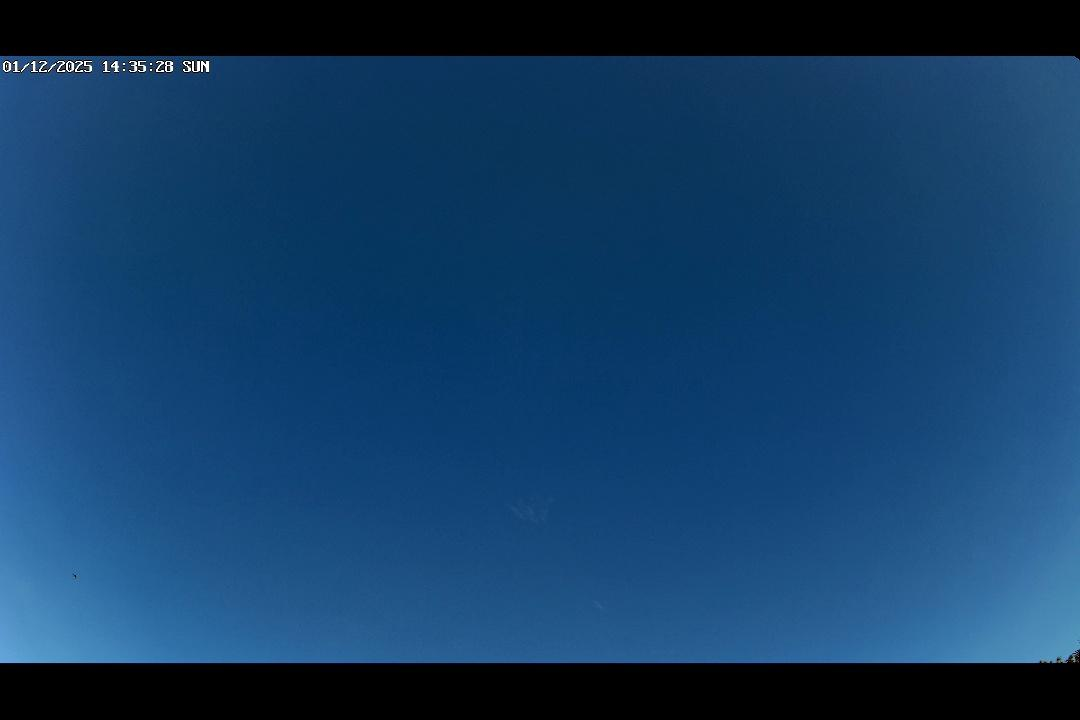WildLife: (70, 568, 81, 581)
